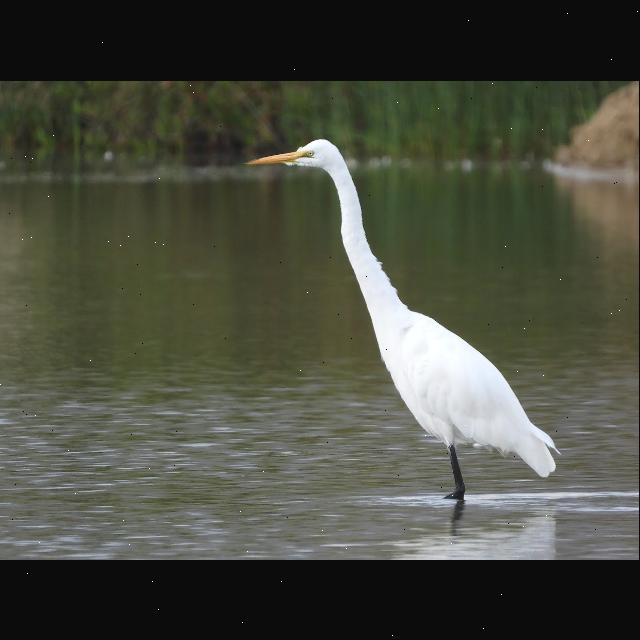egret: (236, 128, 570, 514)
